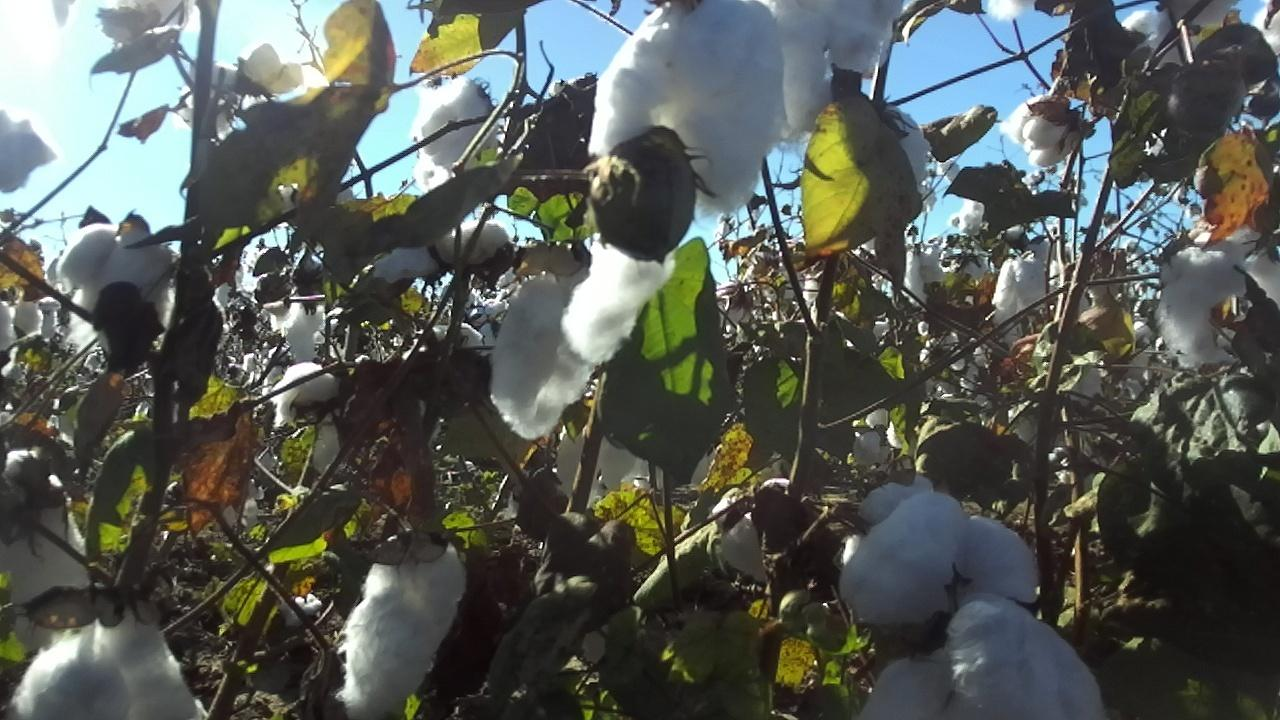cotton_ready: (591, 0, 784, 214), (838, 477, 1042, 632), (862, 597, 1107, 720), (340, 530, 470, 720), (12, 615, 205, 720), (780, 0, 909, 157), (1160, 225, 1280, 371), (490, 278, 593, 437), (556, 230, 685, 355), (0, 445, 95, 611), (63, 225, 192, 347), (556, 417, 712, 510), (412, 77, 499, 195), (709, 477, 792, 579), (1124, 0, 1239, 70), (997, 95, 1080, 174), (993, 237, 1055, 329), (0, 110, 60, 194), (177, 62, 239, 138), (271, 362, 340, 427), (437, 224, 517, 271), (268, 299, 325, 361), (243, 42, 305, 92), (894, 110, 932, 187), (379, 245, 436, 287), (119, 0, 192, 27), (1253, 2, 1280, 54)
